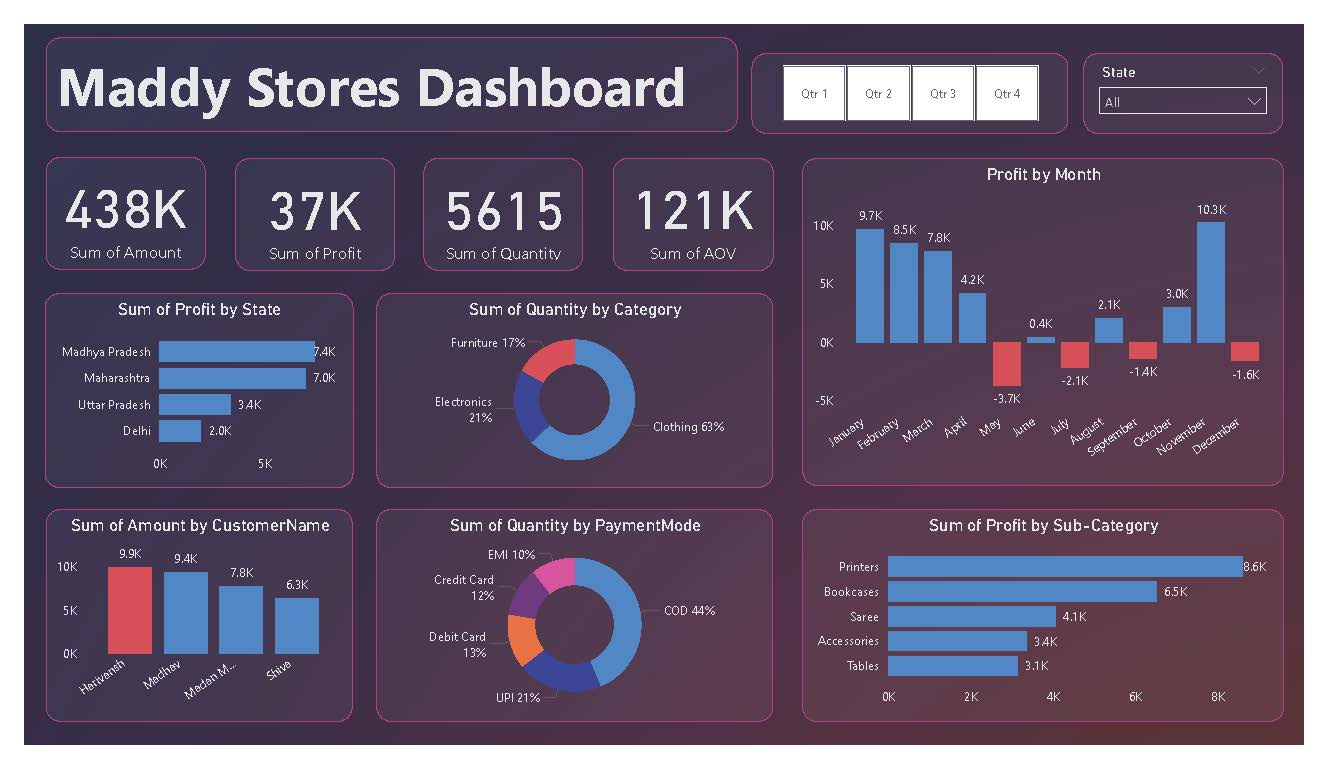

What the dashboard file says about the page in this screenshot:
{"tool":"powerbi","page":{"name":"Page 1","canvas":[1280,720],"ordinal":0},"visuals":[{"type":"textbox","box":[22,13.5,692.1,95.4],"z":0},{"type":"columnChart","title":"Profit by Month","fields":{"Y":["Details.Profit"],"Category":["Orders.Order Date.Variation.Date Hierarchy.Month"]},"box":[778,134.5,481.6,328],"z":1000},{"type":"barChart","fields":{"Category":["Details.Sub-Category"],"Y":["Details.Profit"]},"box":[778,484.4,481.6,212.7],"z":2000},{"type":"donutChart","fields":{"Category":["Details.Category"],"Y":["Details.Quantity"]},"box":[352.7,269,396.6,194.9],"z":3000},{"type":"donutChart","fields":{"Y":["Details.Quantity"],"Category":["Details.PaymentMode"]},"box":[352.7,484.4,396.6,212.7],"z":4000},{"type":"card","fields":{"Values":["Details.Amount"]},"box":[22,133.1,160,113],"z":5000},{"type":"card","fields":{"Values":["Details.Quantity"]},"box":[399.8,134.5,160,113],"z":6000},{"type":"card","fields":{"Values":["Details.Profit"]},"box":[210.9,134.5,160,113],"z":7000},{"type":"card","fields":{"Values":["Details.AOV"]},"box":[588.7,134.5,160.5,112.5],"z":8000},{"type":"barChart","fields":{"Category":["Orders.State"],"Y":["Details.Profit"]},"box":[20.6,269,308.7,194.9],"z":9000},{"type":"columnChart","fields":{"Category":["Orders.CustomerName"],"Y":["Details.Amount"]},"box":[22,484.4,307.4,212.7],"z":10000},{"type":"slicer","fields":{"Values":["Orders.Order Date.Variation.Date Hierarchy.Quarter"]},"box":[727.3,28.8,317,81],"z":11000},{"type":"slicer","fields":{"Values":["Orders.State"]},"box":[1059.4,28.8,200.3,81],"z":12000}]}

Visuals, with their boxes on the page's 1280x720 design canvas (x1, y1, x2, y2). These are canvas units, not pixel positions in the 1328x768 screenshot, which may show the page scaled, cropped or inside an application window:
textbox: bbox=[22, 14, 714, 109]
"Profit by Month" columnChart: bbox=[778, 134, 1260, 462]
barChart - Details.Sub-Category x Details.Profit: bbox=[778, 484, 1260, 697]
donutChart - Details.Category x Details.Quantity: bbox=[353, 269, 749, 464]
donutChart - Details.Quantity x Details.PaymentMode: bbox=[353, 484, 749, 697]
card - Details.Amount: bbox=[22, 133, 182, 246]
card - Details.Quantity: bbox=[400, 134, 560, 248]
card - Details.Profit: bbox=[211, 134, 371, 248]
card - Details.AOV: bbox=[589, 134, 749, 247]
barChart - Orders.State x Details.Profit: bbox=[21, 269, 329, 464]
columnChart - Orders.CustomerName x Details.Amount: bbox=[22, 484, 329, 697]
slicer - Orders.Order Date.Variation.Date Hierarchy.Quarter: bbox=[727, 29, 1044, 110]
slicer - Orders.State: bbox=[1059, 29, 1260, 110]
